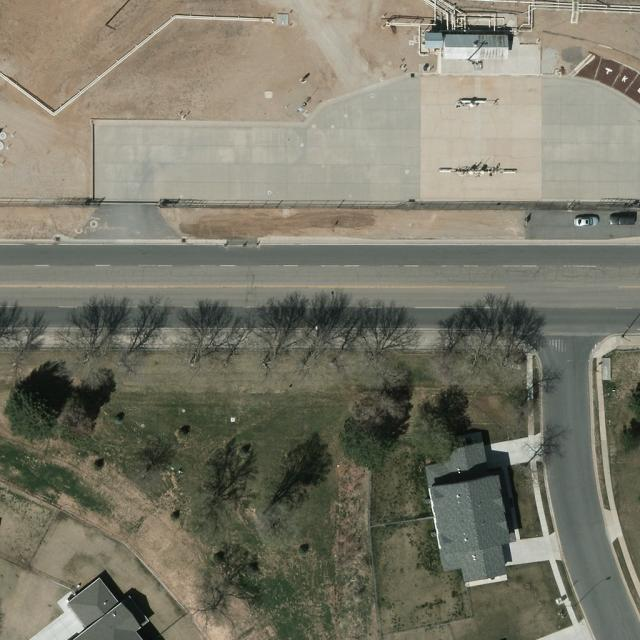vehicle: (574, 217, 598, 227), (609, 216, 636, 224)
